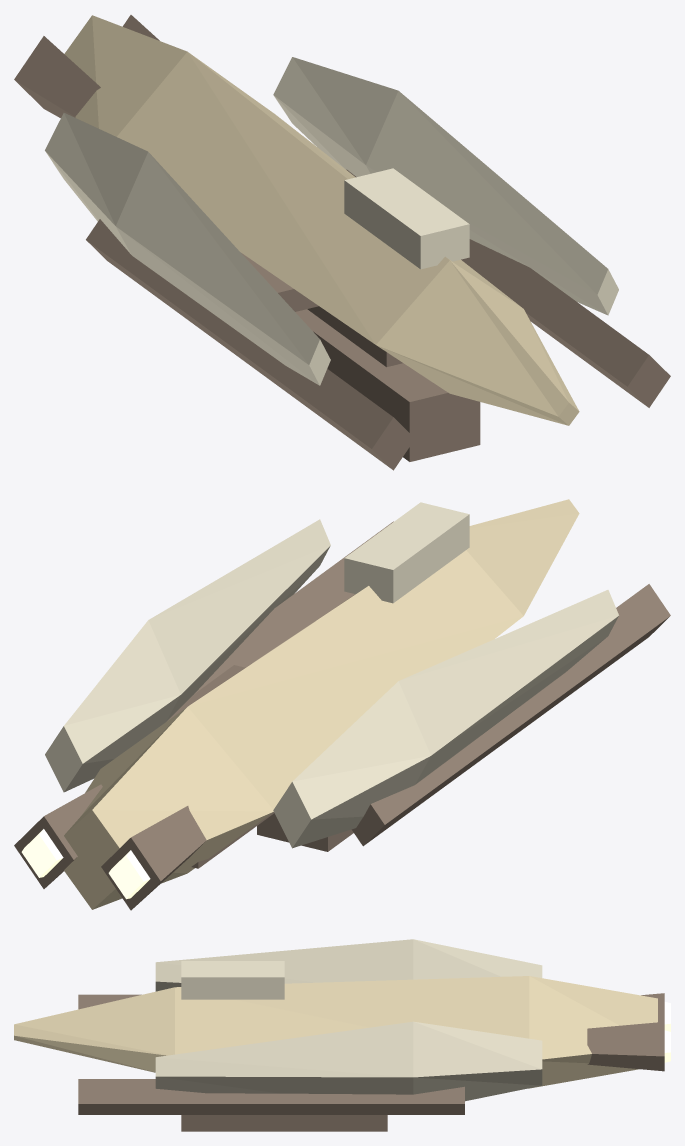
3 renders of one model, top to bottom at view 1: azimuth 30°, elevation 25°; view 2: azimuth 150°, elevation 25°; view 3: azimuth 270°, elevation 25°, orthographic. The views are drawn at different scales.
Bounding box in the file's own units: 2.16 × 1.46 × 5.76.
